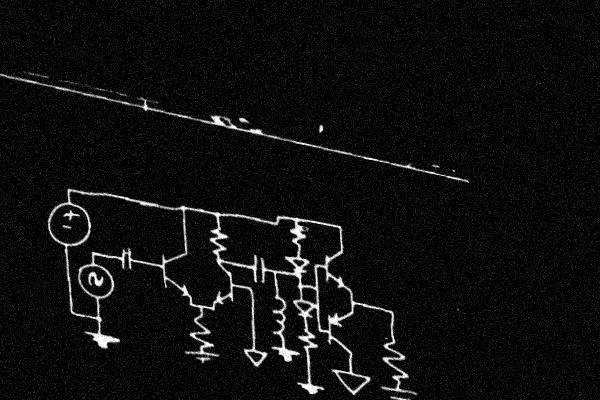capacitor: (242, 249, 273, 290), (113, 242, 138, 274)
diode: (290, 290, 318, 327), (280, 251, 314, 280)
ground: (327, 361, 375, 400), (80, 322, 123, 357), (238, 338, 272, 376), (180, 345, 224, 372), (267, 340, 304, 371), (293, 369, 328, 400), (378, 379, 423, 400)
inductor: (263, 282, 292, 346)
resistor: (377, 329, 413, 390), (185, 307, 220, 353), (294, 322, 322, 361), (205, 215, 229, 260), (287, 220, 313, 255)
signal: (74, 253, 117, 309)
voltage: (42, 189, 95, 256)
